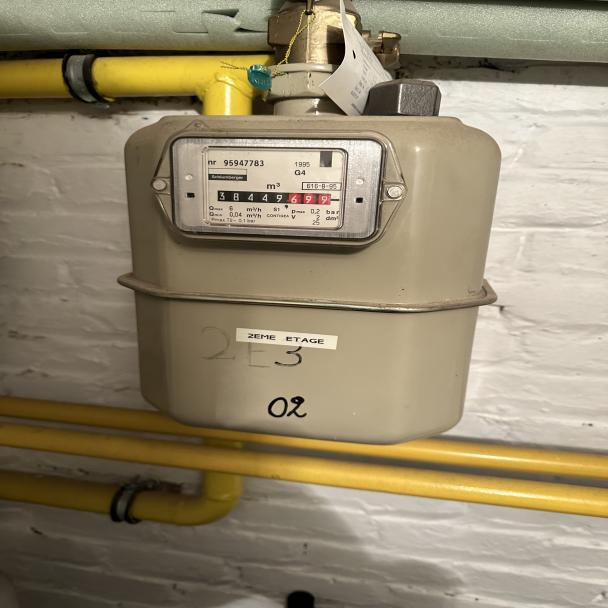3: (215, 188, 229, 204)
4: (259, 187, 275, 205), (245, 188, 261, 204)
6: (287, 191, 303, 205)
8: (229, 188, 247, 203)
9: (302, 191, 319, 206), (273, 189, 289, 204), (317, 192, 332, 206)
counter: (210, 187, 290, 206), (289, 189, 337, 208)
